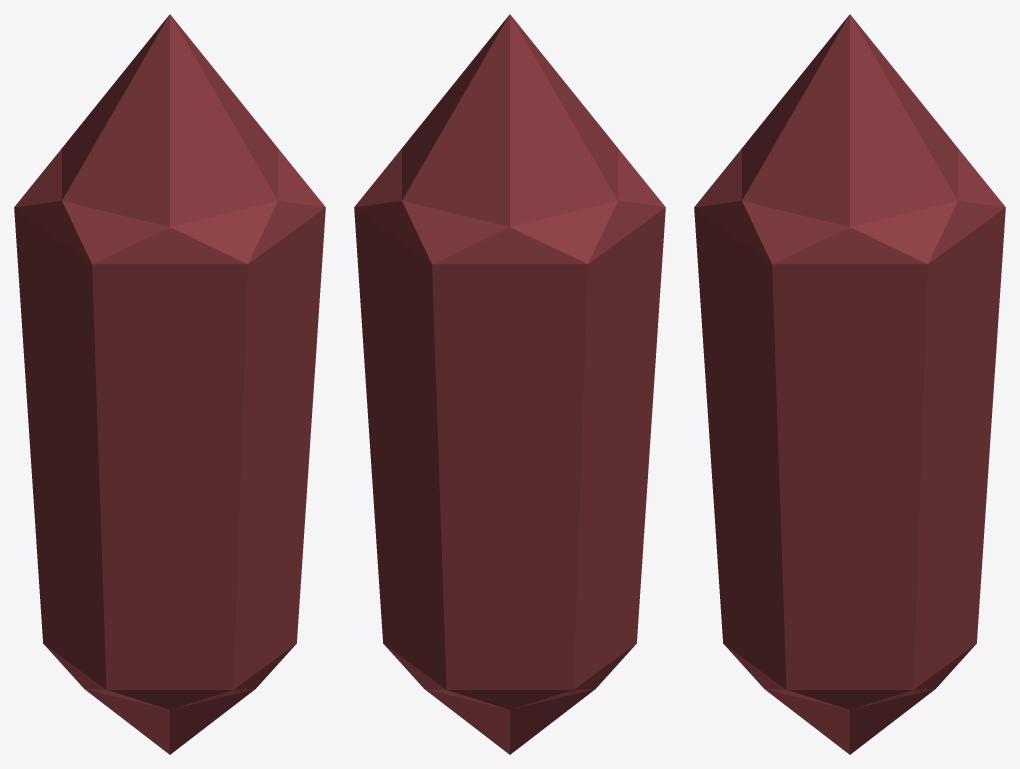
The model's file is power-gem-e28c25.glb.
3 renders of one model, left to right at view 1: azimuth 30°, elevation 25°; view 2: azimuth 150°, elevation 25°; view 3: azimuth 270°, elevation 25°, orthographic.
Parts seen in each view (by area): view 1: gem; view 2: gem; view 3: gem.
Part boxes in pixels (x1,y1,x2,y2): gem: (14,14,325,754); gem: (354,14,665,754); gem: (694,14,1005,754).
Size of the model in its own units: 0.0494 by 0.1495 by 0.057.
